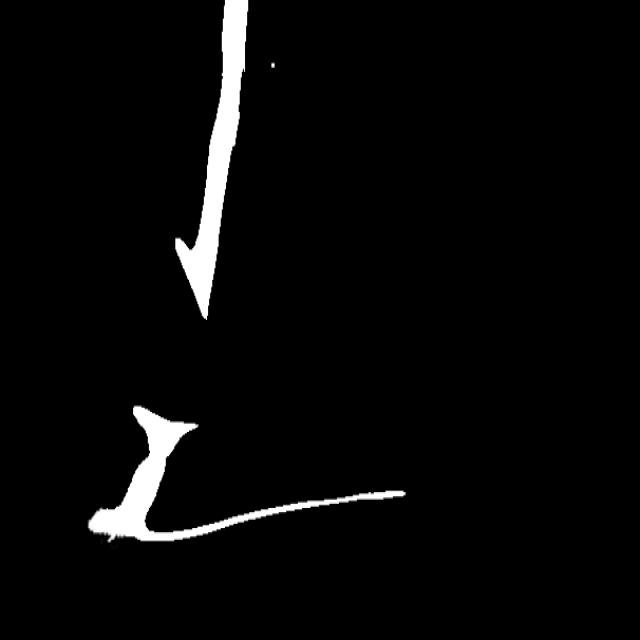sup_pli: (103, 530, 120, 548)
